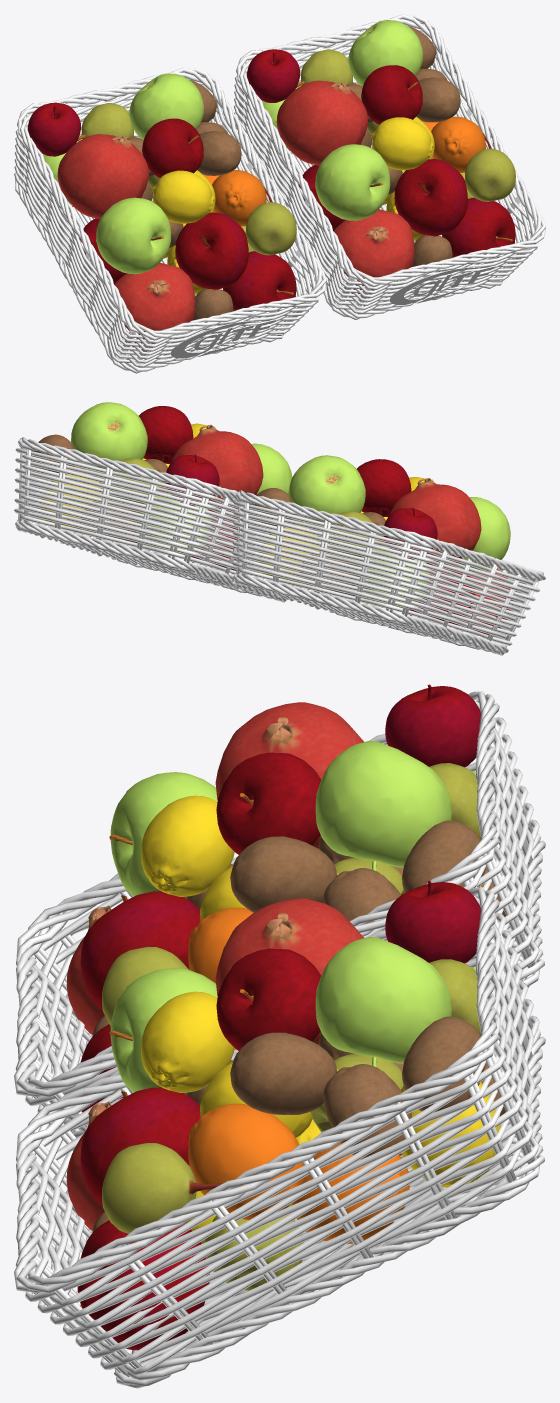
The model's file is CompareAmbientOcclusion.glb.
3 renders of one model, top to bottom at view 1: azimuth 30°, elevation 25°; view 2: azimuth 150°, elevation 25°; view 3: azimuth 270°, elevation 25°, orthographic. The views are drawn at different scales.
Parts seen in each view (by area): view 1: FruitLeft, FruitRight, BasketLeft, BasketRight, LogoLeft, LogoRight; view 2: BasketLeft, BasketRight, FruitLeft, FruitRight; view 3: FruitRight, BasketRight, FruitLeft, BasketLeft.
Part boxes in pixels (bbox=[...]): FruitLeft: bbox=[27, 73, 296, 351]; FruitRight: bbox=[247, 20, 515, 297]; BasketLeft: bbox=[14, 68, 326, 373]; BasketRight: bbox=[233, 14, 545, 319]; LogoLeft: bbox=[170, 319, 275, 358]; LogoRight: bbox=[389, 266, 494, 304]; BasketLeft: bbox=[232, 490, 545, 655]; BasketRight: bbox=[14, 437, 288, 602]; FruitLeft: bbox=[249, 455, 512, 634]; FruitRight: bbox=[31, 402, 292, 570]; FruitRight: bbox=[66, 880, 510, 1350]; BasketRight: bbox=[14, 887, 545, 1388]; FruitLeft: bbox=[66, 684, 510, 1112]; BasketLeft: bbox=[14, 691, 545, 1137].
Bounding box in the file's own units: 0.615 × 0.31 × 0.367.
Materials: 5 (2 with a texture image).
